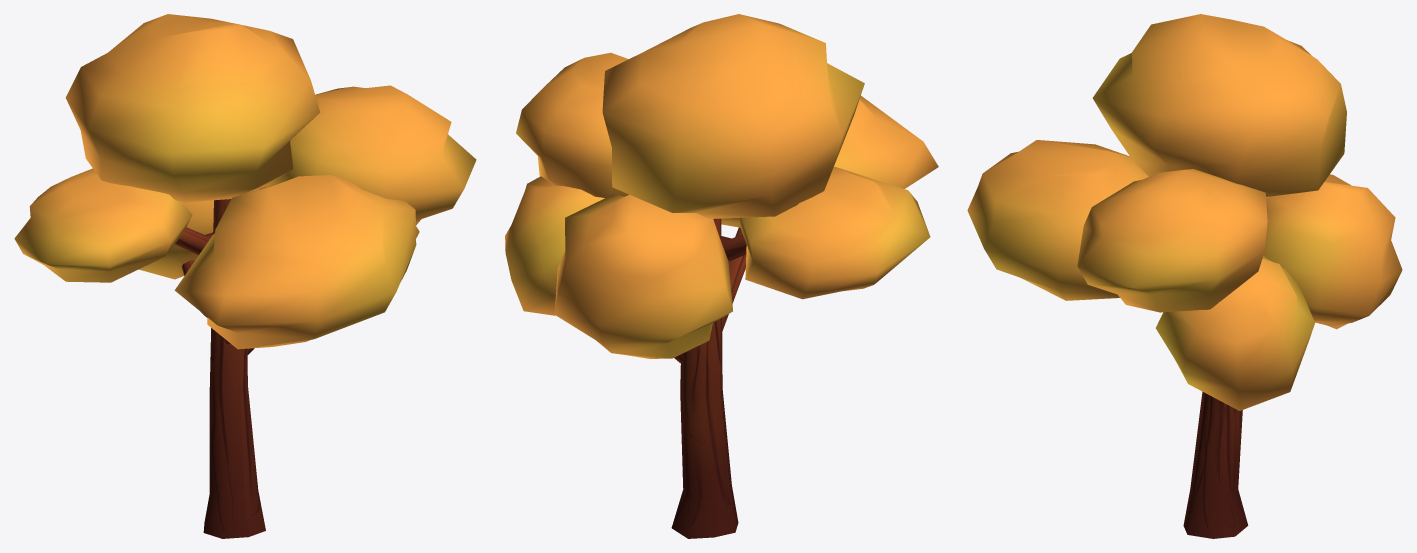
Rendered from TempleMapTree_Yellow.fbx.
3 renders of one model, left to right at view 1: azimuth 30°, elevation 25°; view 2: azimuth 150°, elevation 25°; view 3: azimuth 270°, elevation 25°, orthographic. The views are drawn at different scales.
Parts seen in each view (by area): view 1: pCylinder6; view 2: pCylinder6; view 3: pCylinder6.
Boxes of the visible parts, x1,y1,x2,y2 form: pCylinder6: [14, 14, 476, 538]; pCylinder6: [505, 14, 938, 538]; pCylinder6: [967, 14, 1402, 538].
Bounding box in the file's own units: 0.1662 × 0.199 × 0.1608.
